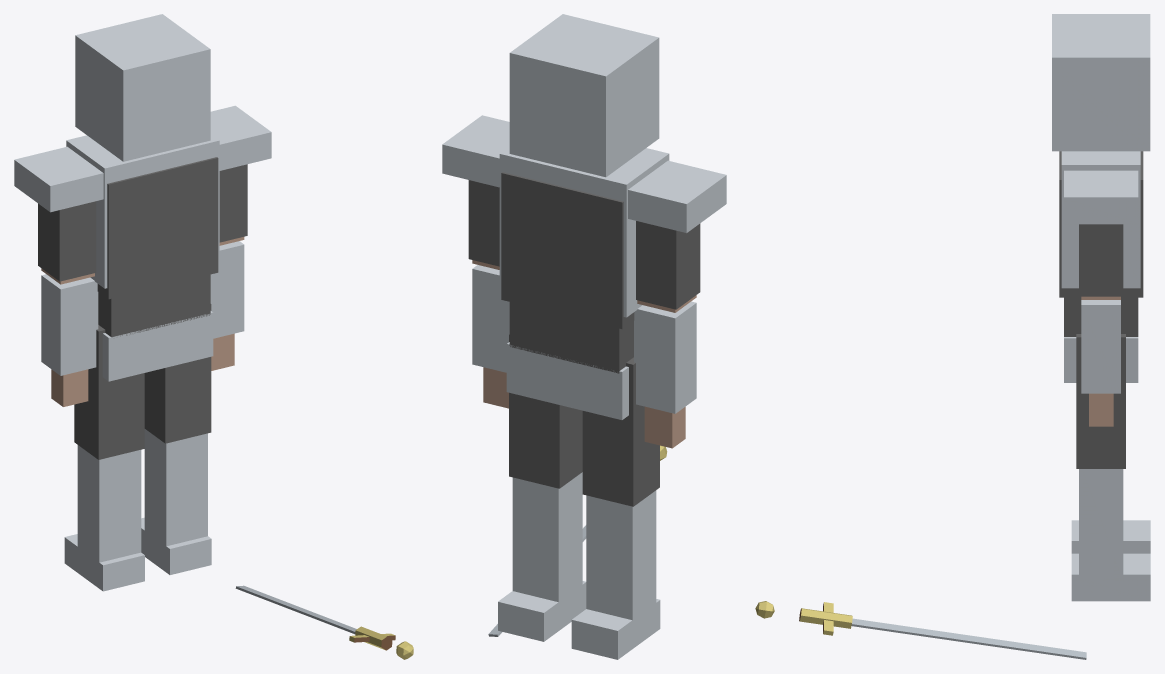
3 views of the same model, side by side, from view 1: azimuth 30°, elevation 25°; view 2: azimuth 150°, elevation 25°; view 3: azimuth 270°, elevation 25° (orthographic). The views are drawn at different scales.
Parts seen in each view (by area): view 1: Armor, Under_Armor, Body, Sword; view 2: Armor, Under_Armor, Body; view 3: Armor, Under_Armor, Sword, Body.
Part boxes in pixels (left/top/right/bottom): Armor: left=14, top=14, right=271, bottom=591; Under_Armor: left=38, top=157, right=247, bottom=459; Body: left=41, top=237, right=244, bottom=406; Sword: left=235, top=585, right=413, bottom=659; Armor: left=442, top=14, right=726, bottom=659; Under_Armor: left=468, top=172, right=700, bottom=506; Body: left=472, top=260, right=696, bottom=448; Armor: left=1052, top=14, right=1150, bottom=601; Under_Armor: left=1059, top=151, right=1143, bottom=468; Sword: left=755, top=601, right=1086, bottom=659; Body: left=1081, top=296, right=1120, bottom=426.
Bounding box in the file's own units: 1.04 × 2.45 × 1.52.
